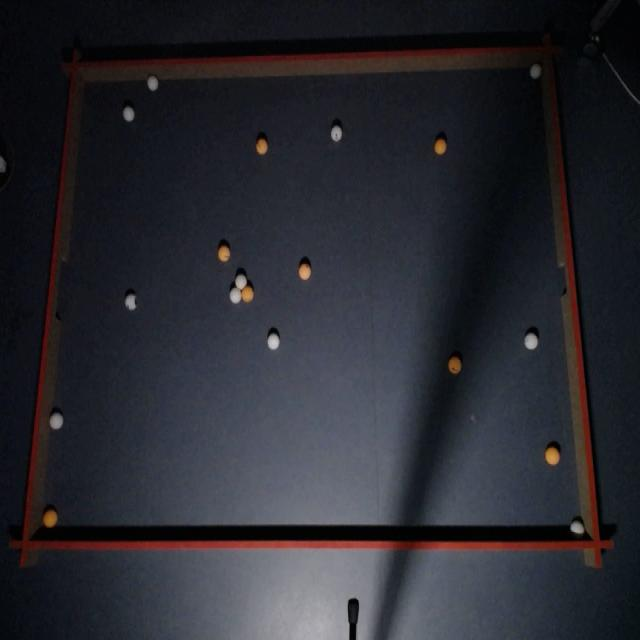orange_ball: (42, 508, 58, 529), (545, 445, 560, 466), (448, 356, 462, 374), (241, 284, 254, 302), (218, 244, 230, 262), (299, 263, 311, 280), (434, 138, 446, 155), (256, 138, 266, 154)
white_ball: (50, 410, 64, 430), (524, 332, 538, 350), (267, 332, 280, 350), (571, 518, 584, 534), (235, 272, 247, 289), (123, 106, 135, 122), (530, 63, 542, 79), (331, 125, 342, 141), (147, 75, 158, 91), (230, 286, 240, 303), (128, 295, 137, 309)
